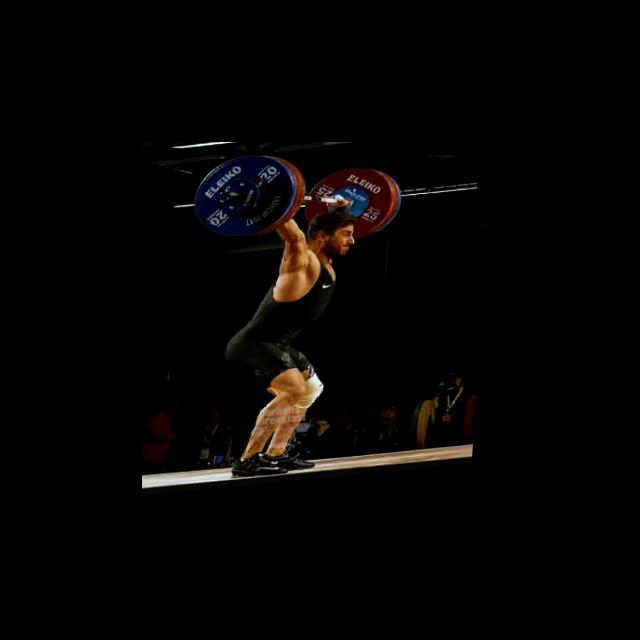barbell: (191, 152, 301, 246)
